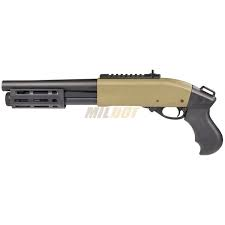weapon: (2, 73, 224, 156)
